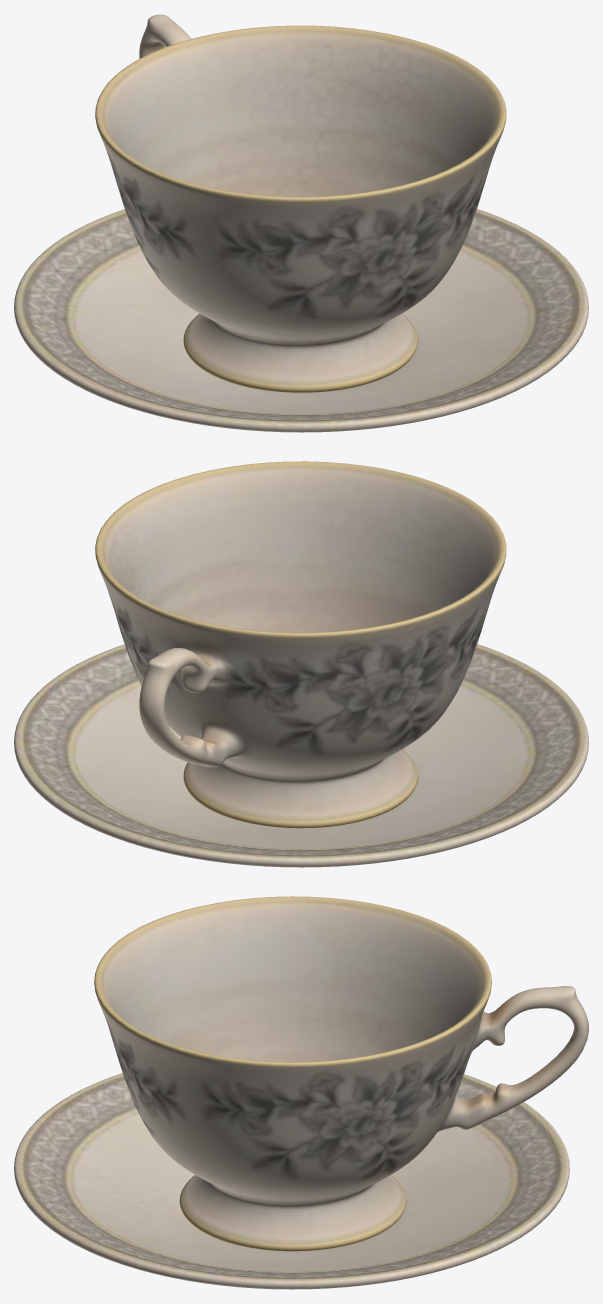
The model's file is cup.glb.
3 renders of one model, top to bottom at view 1: azimuth 30°, elevation 25°; view 2: azimuth 150°, elevation 25°; view 3: azimuth 270°, elevation 25°, orthographic. The views are drawn at different scales.
Visible parts, largest first — view 1: tea_cup, tea_saucer; view 2: tea_cup, tea_saucer; view 3: tea_cup, tea_saucer.
Part boxes in pixels (bbox=[...]): tea_cup: bbox=[95, 14, 506, 392]; tea_saucer: bbox=[14, 209, 588, 432]; tea_cup: bbox=[95, 461, 506, 828]; tea_saucer: bbox=[14, 644, 588, 867]; tea_cup: bbox=[94, 896, 588, 1251]; tea_saucer: bbox=[14, 1073, 569, 1289].
Size of the model in its own units: 0.1486 by 0.0704 by 0.1537.
Materials: 2 (2 with a texture image).
